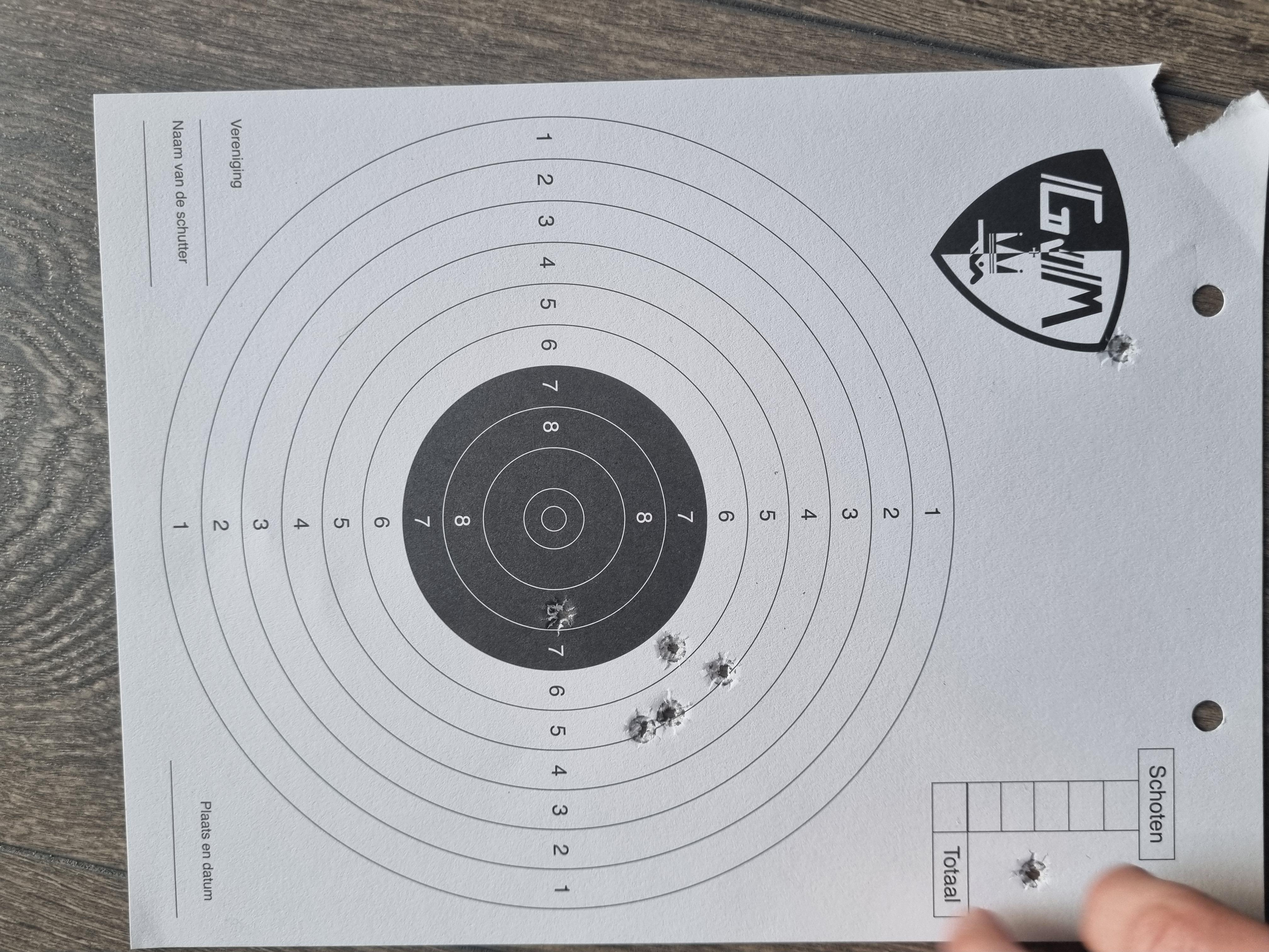hole: (775, 825, 836, 861), (82, 753, 133, 792), (347, 528, 405, 561), (266, 466, 326, 493), (287, 487, 339, 516), (377, 490, 430, 516), (427, 409, 474, 434)
